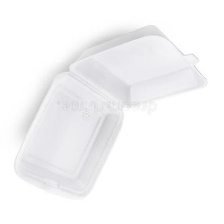foam_box: (9, 19, 211, 205)
